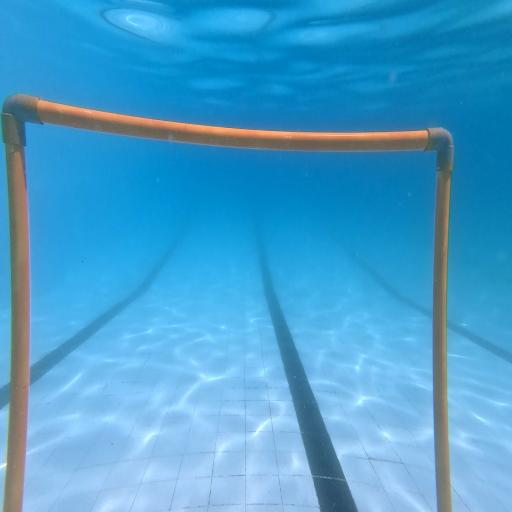gate: (1, 95, 453, 512)
